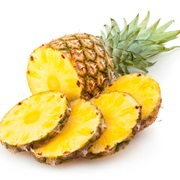Pineapple: (24, 9, 180, 102), (31, 98, 106, 164), (1, 89, 68, 156), (79, 91, 143, 161), (96, 71, 163, 135)
